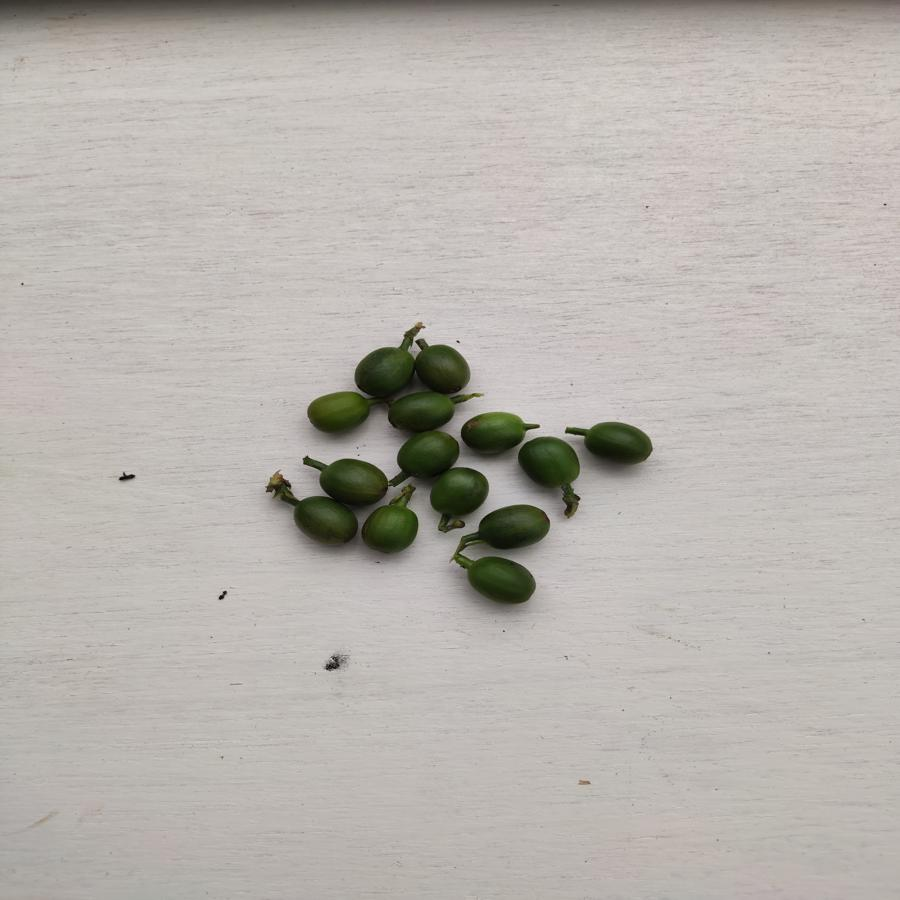Inmaduro: (463, 552, 542, 604), (581, 419, 657, 465), (292, 495, 360, 546), (517, 435, 582, 488), (317, 457, 390, 504), (414, 342, 477, 396), (397, 427, 460, 480), (479, 504, 550, 551), (350, 344, 414, 393), (360, 503, 420, 555), (428, 466, 490, 516), (461, 409, 523, 456), (304, 391, 373, 432), (388, 391, 454, 431)
